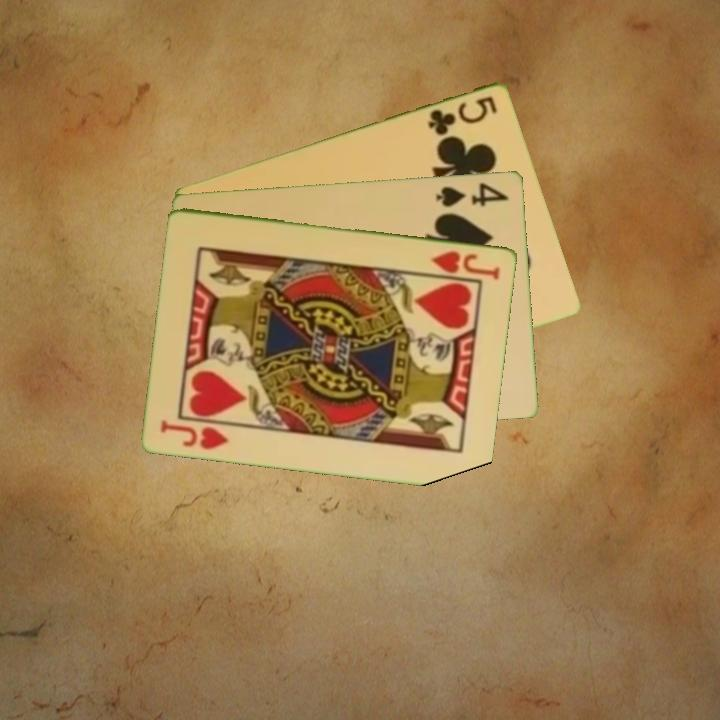4s: (432, 178, 512, 210)
5c: (424, 92, 500, 138)
Jh: (428, 247, 503, 283), (157, 416, 232, 452)
